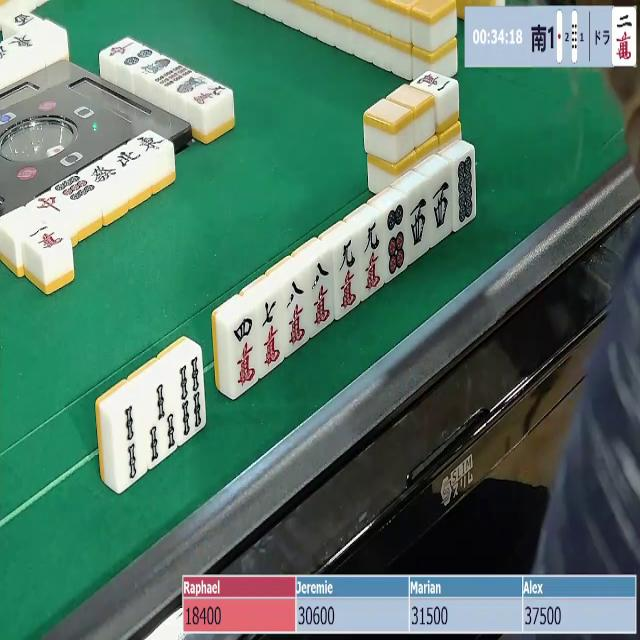1C: (416, 70, 455, 98)
2B: (120, 401, 142, 488)
2C: (614, 8, 636, 64)
3B: (147, 377, 175, 464)
4B: (174, 353, 207, 444)
4C: (230, 309, 257, 388)
6D: (381, 203, 410, 280)
7C: (259, 294, 281, 368)
8C: (308, 255, 330, 331), (287, 279, 305, 349)
8D: (457, 153, 475, 225)
9B: (155, 62, 193, 91)
9C: (334, 236, 358, 317), (361, 220, 386, 296)
WW: (432, 179, 454, 244), (409, 193, 428, 257)
